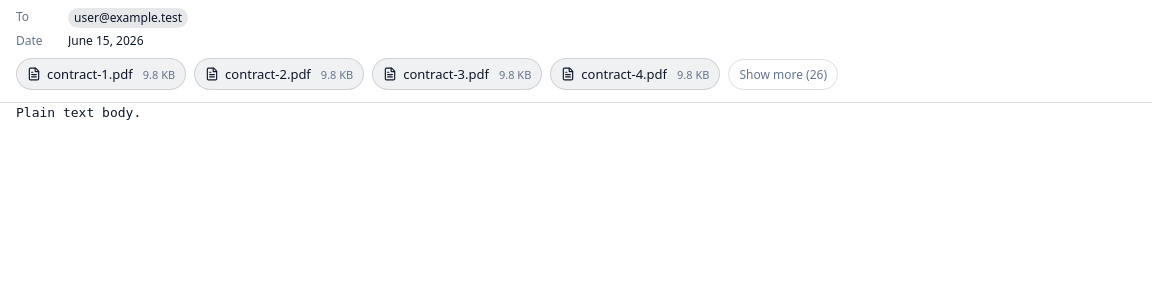
Test: MailBodyContent — attachment list ceiling (§2.128 part 2) › collapses again when another message is selected
The image size is (1152, 308).
Click the button with test id "attachments-toggle".
click(783, 74)  # box [728, 58, 838, 90]
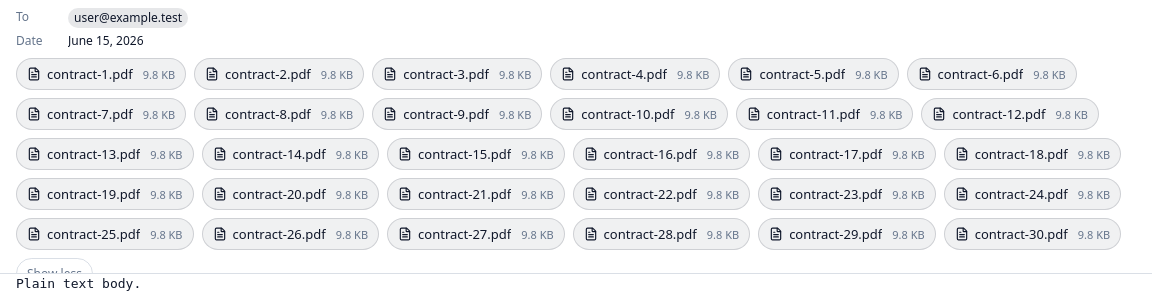
Check: the number of buttons with class "attachment-chip" is 30
